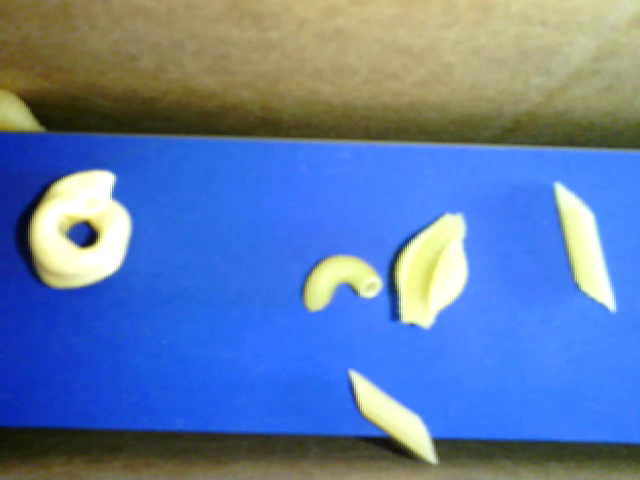elbow: (300, 249, 385, 323)
penne: (341, 365, 439, 464), (551, 171, 618, 311)
shell: (395, 207, 481, 331), (2, 90, 54, 132)
tortellini: (32, 160, 129, 292)
